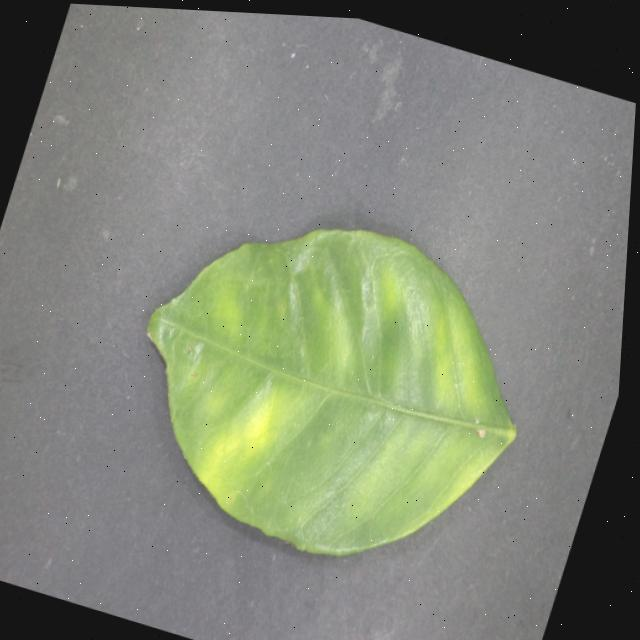greening: (147, 230, 515, 555)
